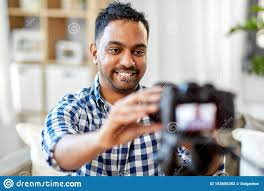Indian_Male: (101, 22, 148, 96)
